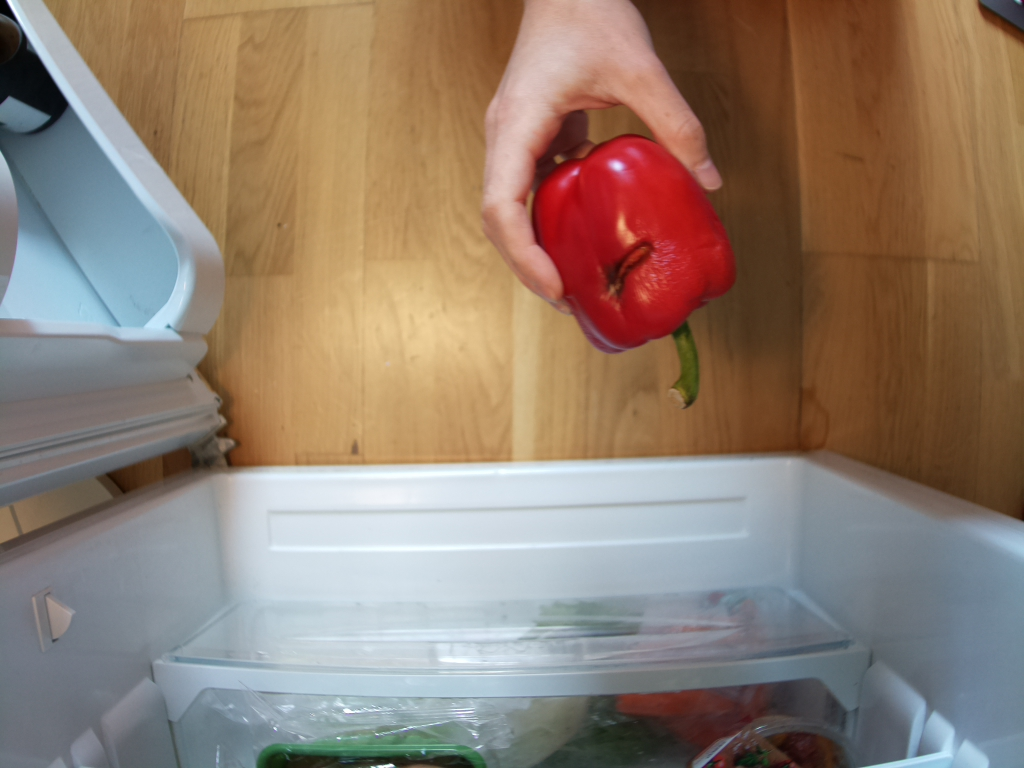pepper-bad: (520, 123, 745, 407)
